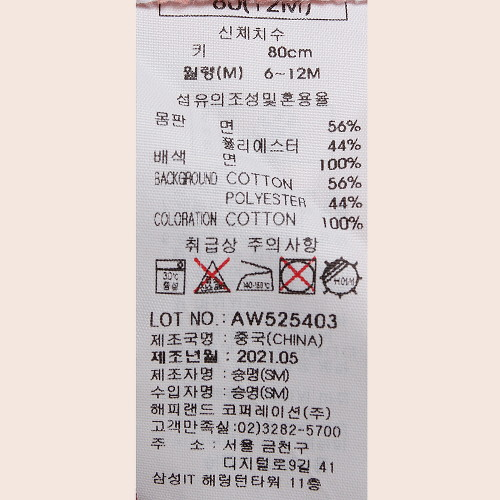KR_flat_dry_in_shade: (320, 255, 361, 299)
KR_iron_medium_temp: (235, 258, 276, 297)
KR_no_bleach: (191, 257, 233, 298)
KR_no_tumble_dry: (278, 255, 318, 297)
KR_wash_warm_30_neutral: (153, 255, 188, 298)
